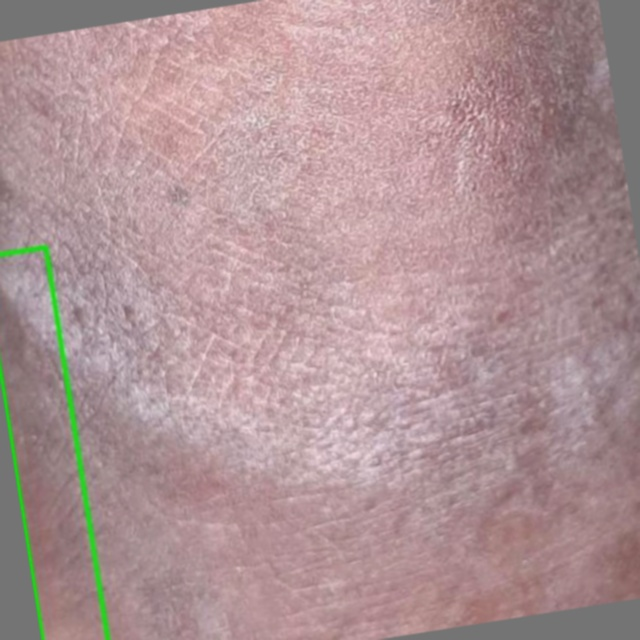Contact Dermatitis: (0, 247, 107, 639)
